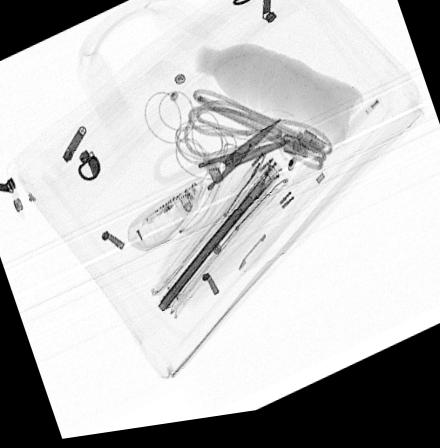Scissors: (149, 126, 291, 241)
